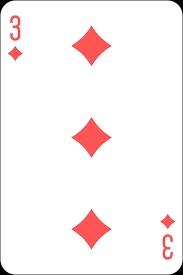three of diamonds: (3, 2, 181, 275)
